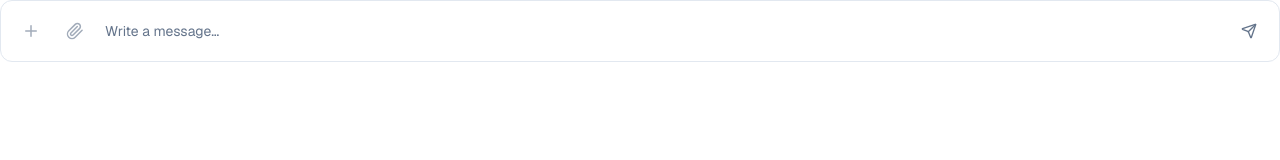
Scenario: ThreadComposer › shows an inline error when the send request fails
Type "Hello" into the text box with placeholder "Write a message…" at (662, 31), box top-left (101, 13), bottom-right (1223, 49)
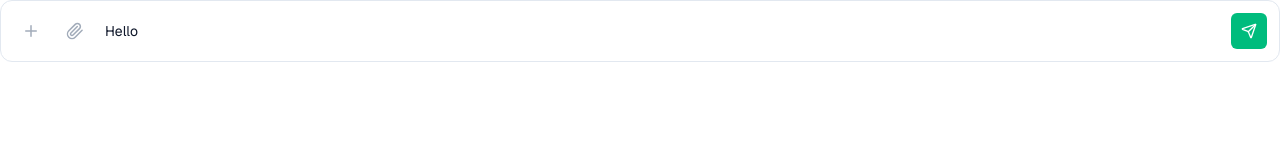
Click the button named "Send" at (1249, 31), box top-left (1231, 13), bottom-right (1267, 49)
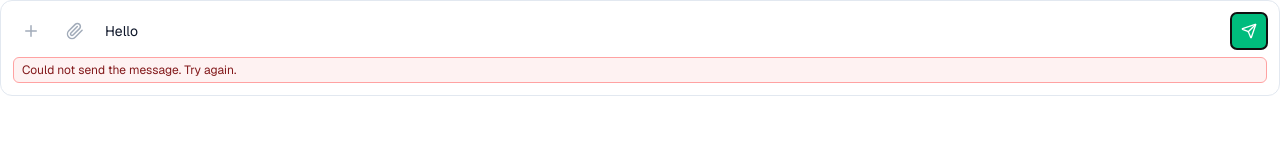
Expected: the text "Could not send the message. Try again." is shown, top-left (13, 57), bottom-right (1267, 83)
